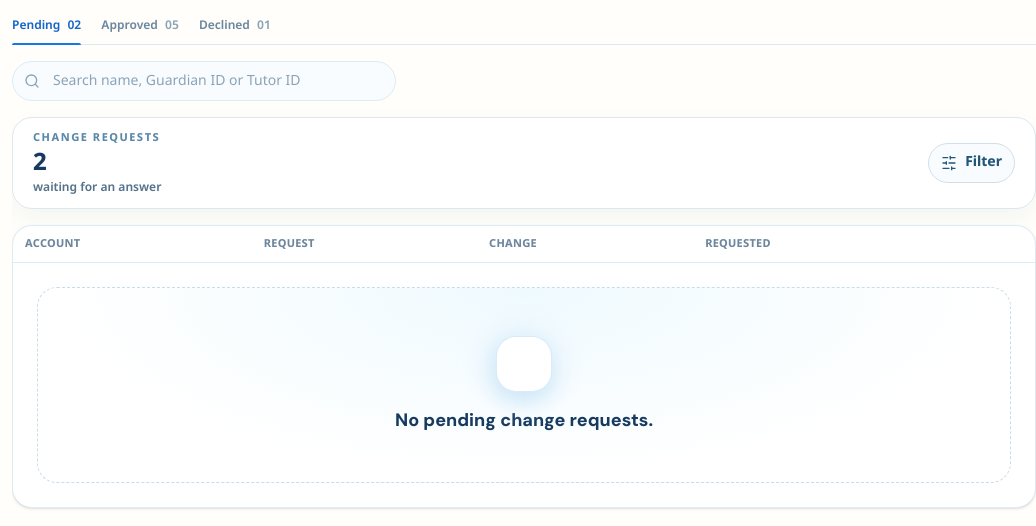
the card, search and filter panel over the Change requests › sends the search, and names the narrowed queue
Type "Rina" into the search field with placeholder "Search name, Guardian ID or Tutor ID". click: (204, 81)
box: [12,61,396,101]
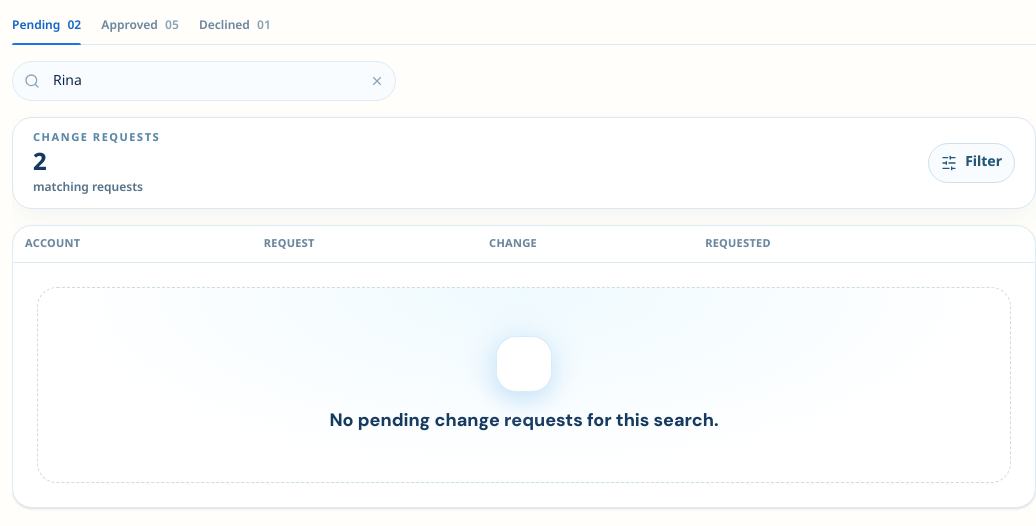
Result: the text "matching requests" is shown at [33,180,160,196]
